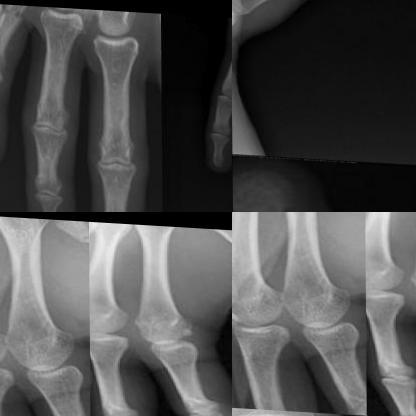fracture: (233, 189, 305, 211)
